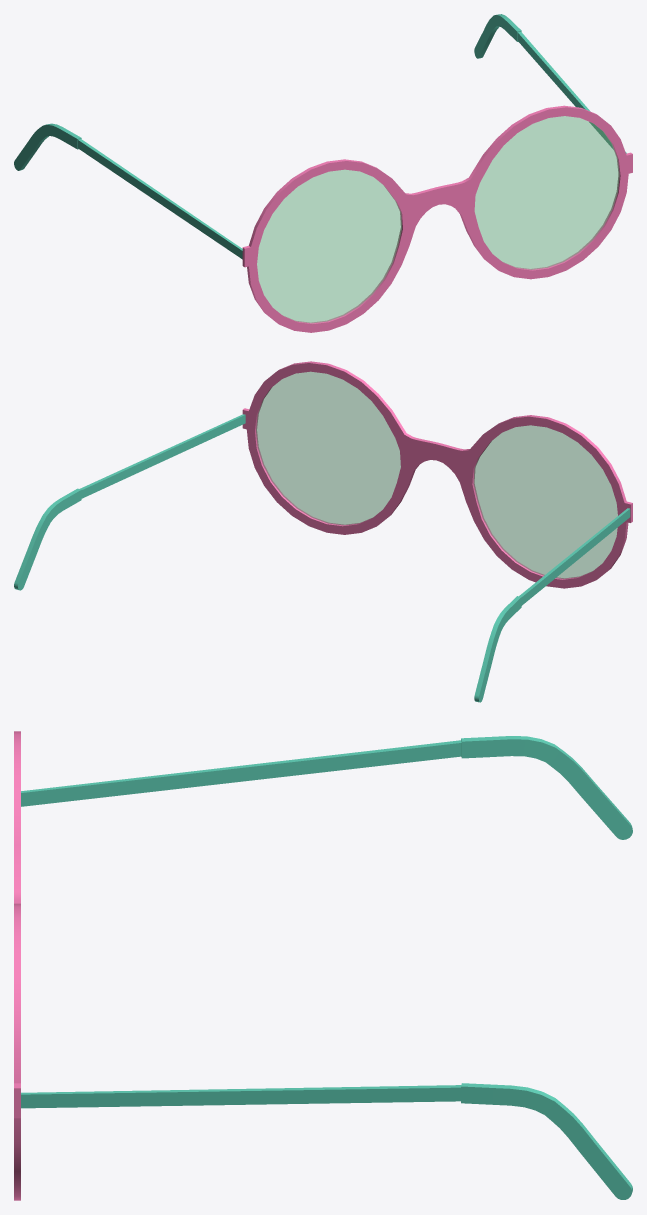
The picture shows the model from 3 angles, top to bottom: view 1: azimuth 30°, elevation 25°; view 2: azimuth 150°, elevation 25°; view 3: azimuth 270°, elevation 25°; orthographic projection. The views are drawn at different scales.
Visible parts, largest first — view 1: Lens, Material.021, Material.022; view 2: Lens, Material.021, Material.022; view 3: Material.022, Material.021.
Boxes of the visible parts, x1=… form: Lens: x1=257, y1=116, x2=619, y2=323; Material.021: x1=242, y1=105, x2=632, y2=332; Material.022: x1=14, y1=14, x2=626, y2=259; Lens: x1=256, y1=371, x2=617, y2=578; Material.021: x1=242, y1=361, x2=632, y2=588; Material.022: x1=14, y1=414, x2=630, y2=702; Material.022: x1=21, y1=736, x2=632, y2=1199; Material.021: x1=14, y1=731, x2=20, y2=1200.
Size of the model in its own units: 2.15 by 0.7403 by 1.54.
